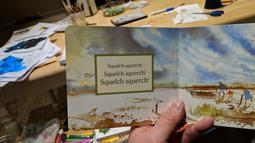text block: (97, 57, 150, 89)
